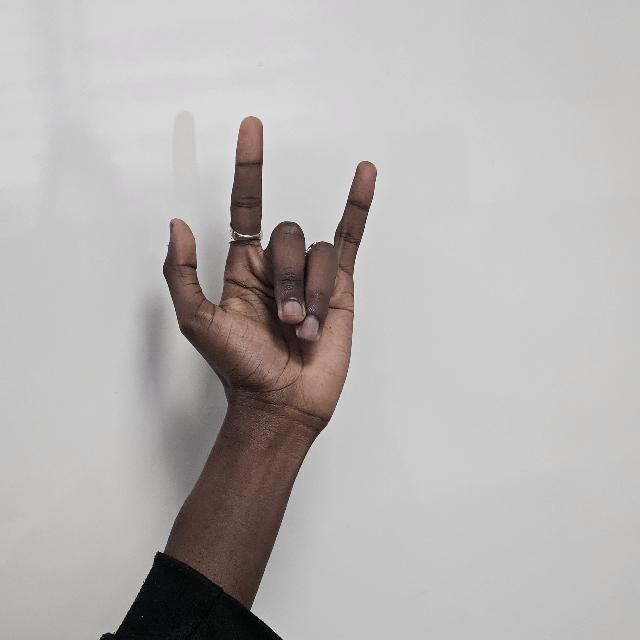Cima: (162, 111, 380, 447)
